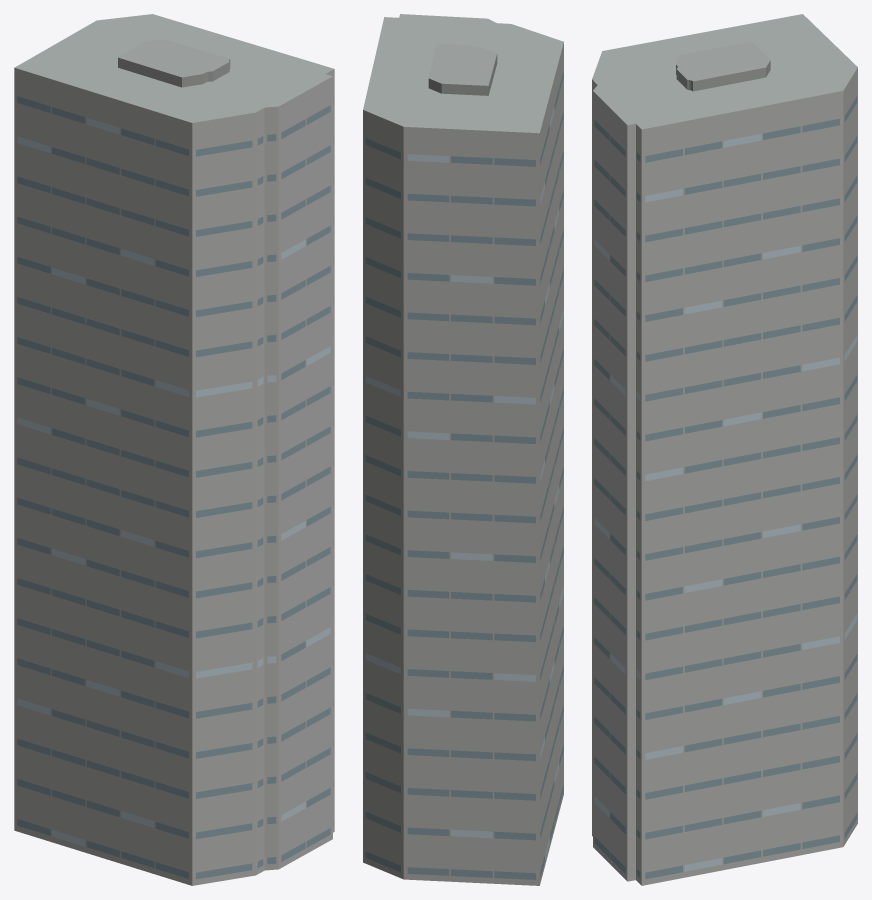
File: landmark-77f3e0e5-8cc8-4362-a761-ba0dc45e42a4.glb
3 views of the same model, side by side, from view 1: azimuth 30°, elevation 25°; view 2: azimuth 150°, elevation 25°; view 3: azimuth 270°, elevation 25° (orthographic).
Visible parts, largest first — view 1: landmark-77f3e0e5-8cc8-4362-a761-ba0dc45e42a4; view 2: landmark-77f3e0e5-8cc8-4362-a761-ba0dc45e42a4; view 3: landmark-77f3e0e5-8cc8-4362-a761-ba0dc45e42a4.
Part boxes in pixels (x1,y1,x2,y2): landmark-77f3e0e5-8cc8-4362-a761-ba0dc45e42a4: (14, 14, 334, 885); landmark-77f3e0e5-8cc8-4362-a761-ba0dc45e42a4: (363, 14, 563, 885); landmark-77f3e0e5-8cc8-4362-a761-ba0dc45e42a4: (592, 14, 857, 885).
Bounding box in the file's own units: 59.19 × 183 × 57.54.
